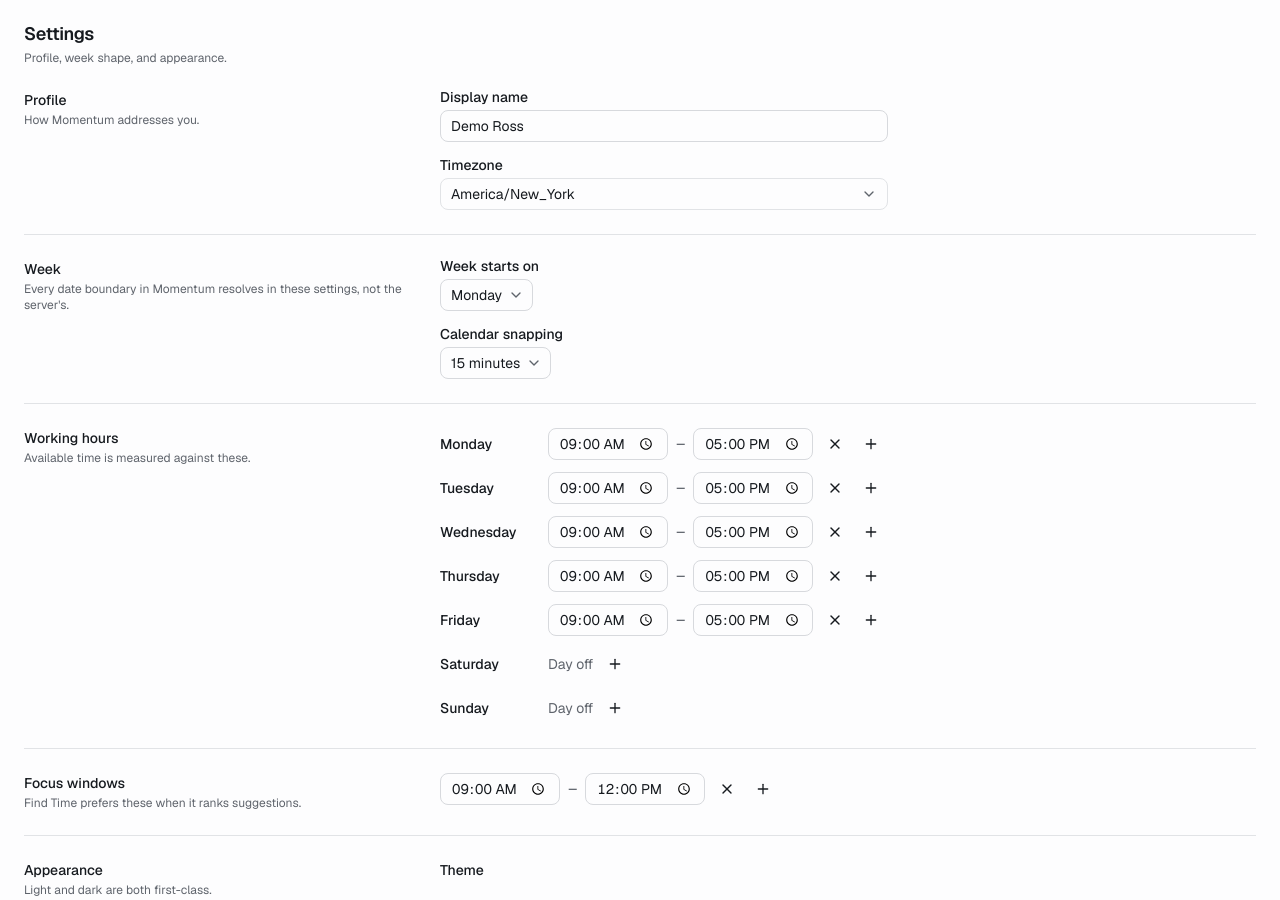
Test case: focus windows › removes the last one and reads as none
The image size is (1280, 900).
Click the button named "Remove Focus window 1" at point(728, 789), box left=714, top=775, right=742, bottom=803
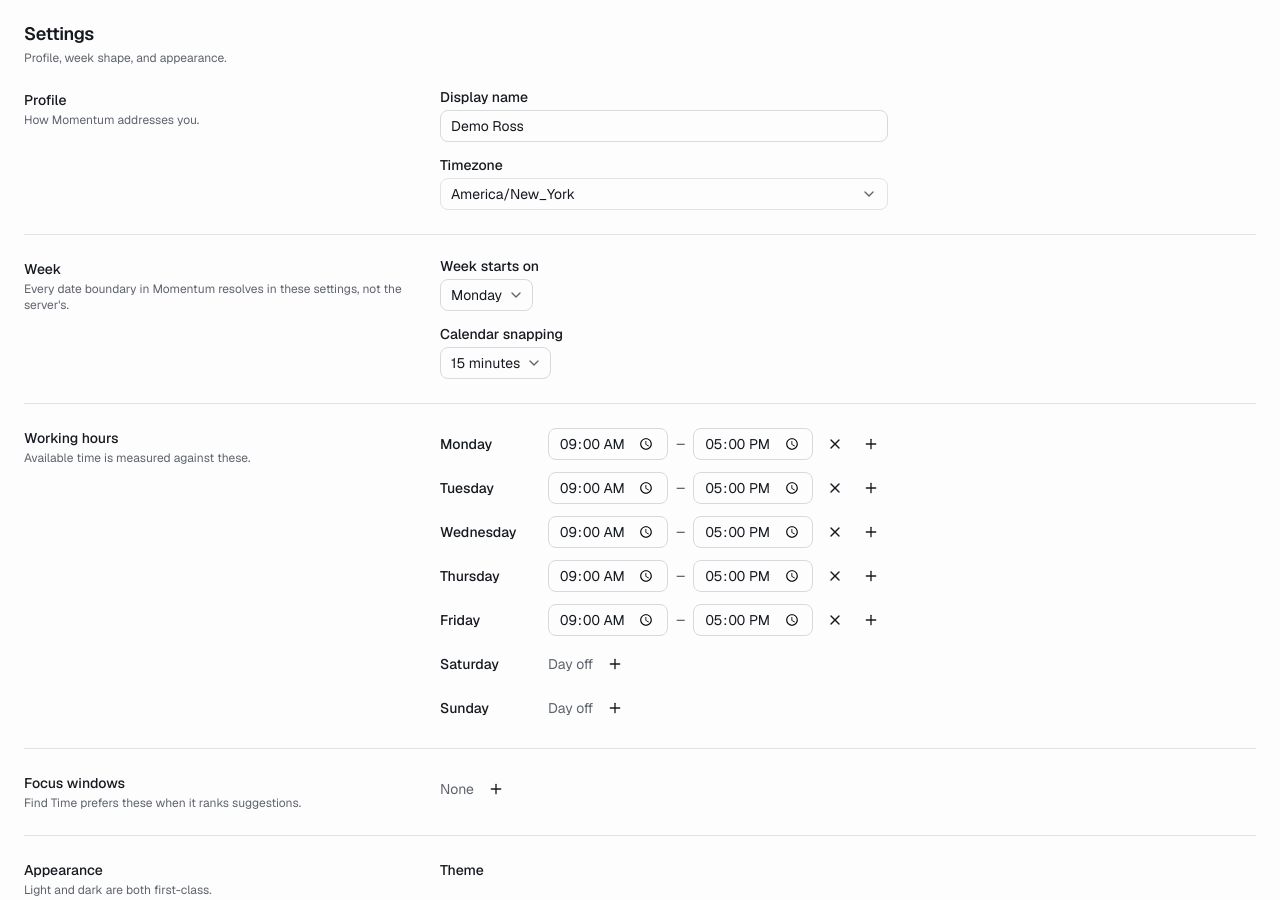
Expected: the text "None" is shown, left=440, top=779, right=474, bottom=799
